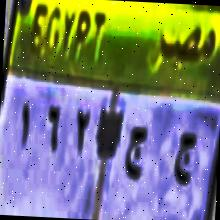1: (12, 101, 36, 159)
2: (70, 102, 96, 160)
6: (44, 95, 62, 155)
jeem: (165, 125, 199, 196), (122, 122, 148, 184)
